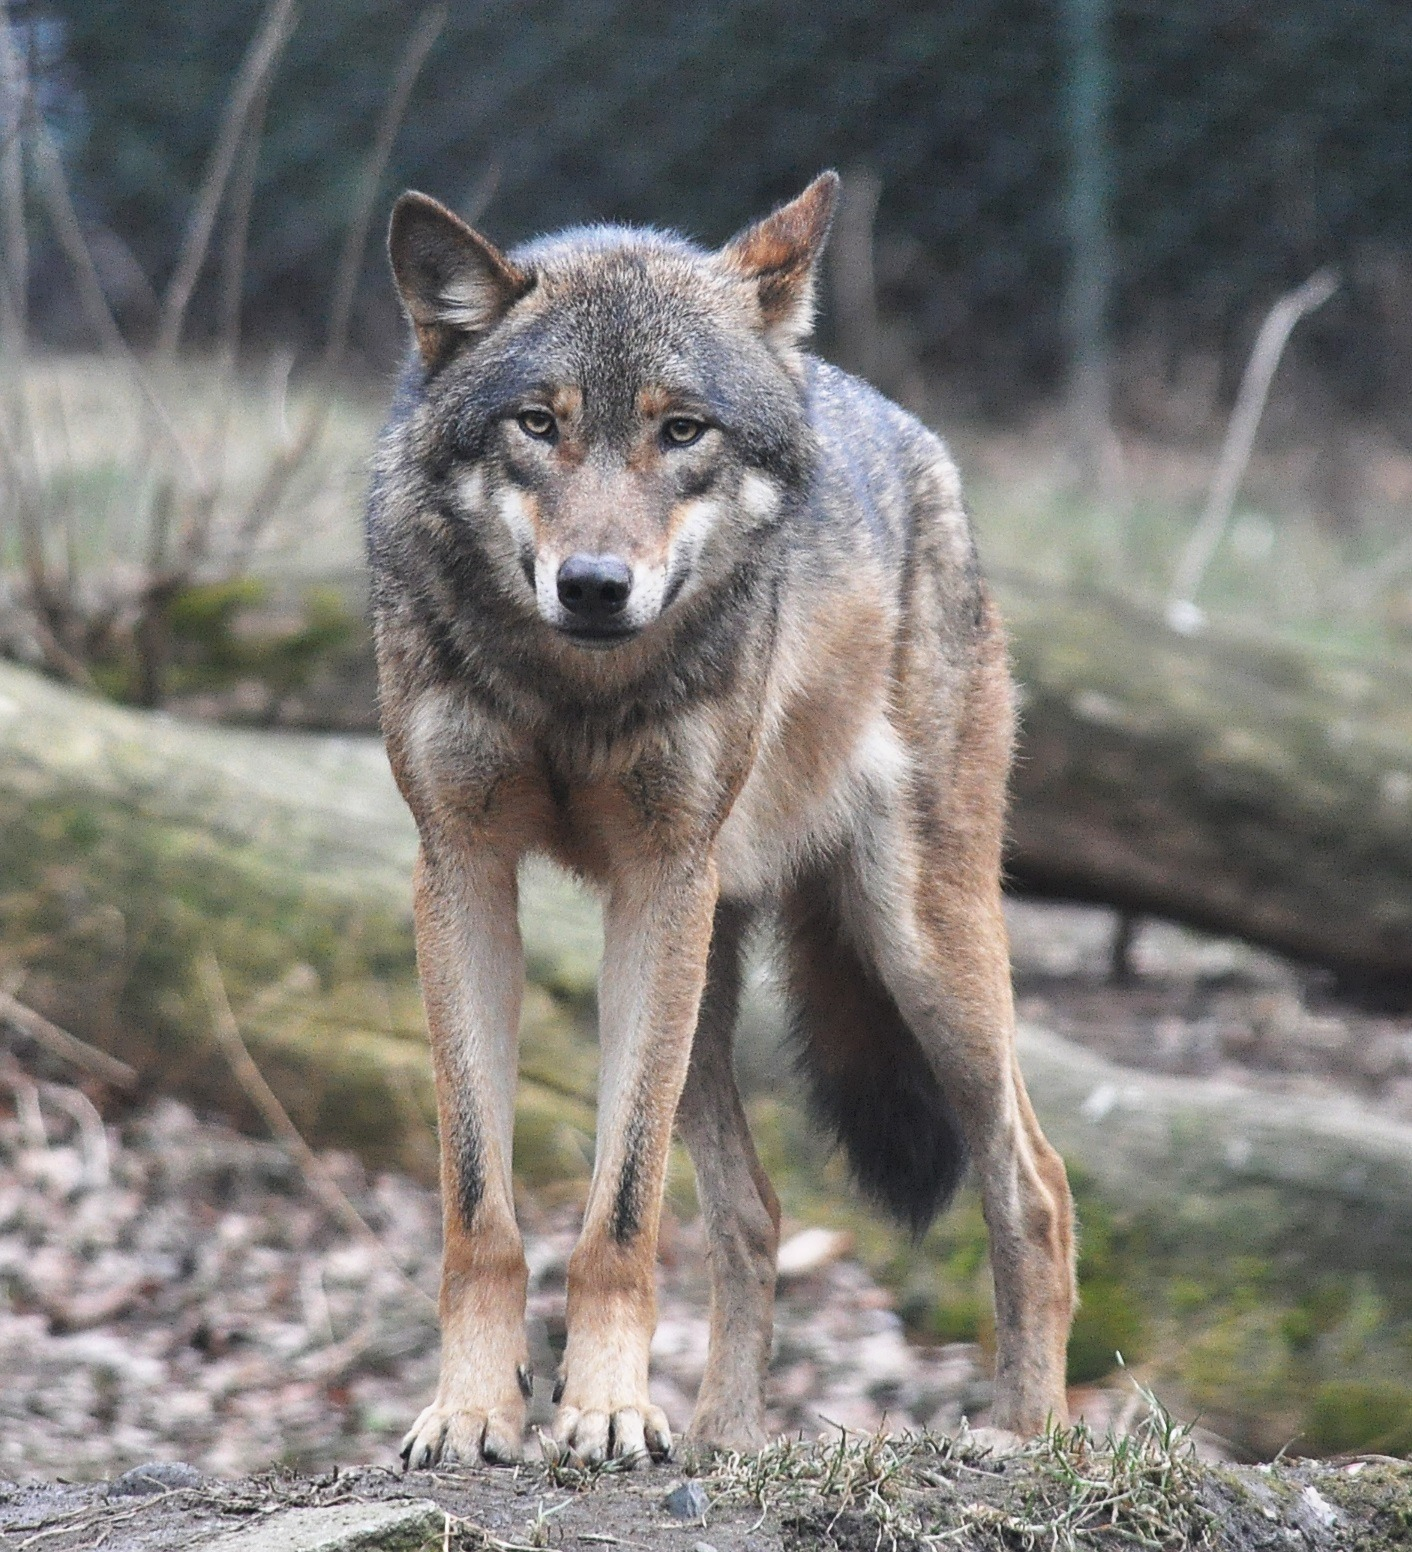wolf: (314, 138, 1087, 1503)
